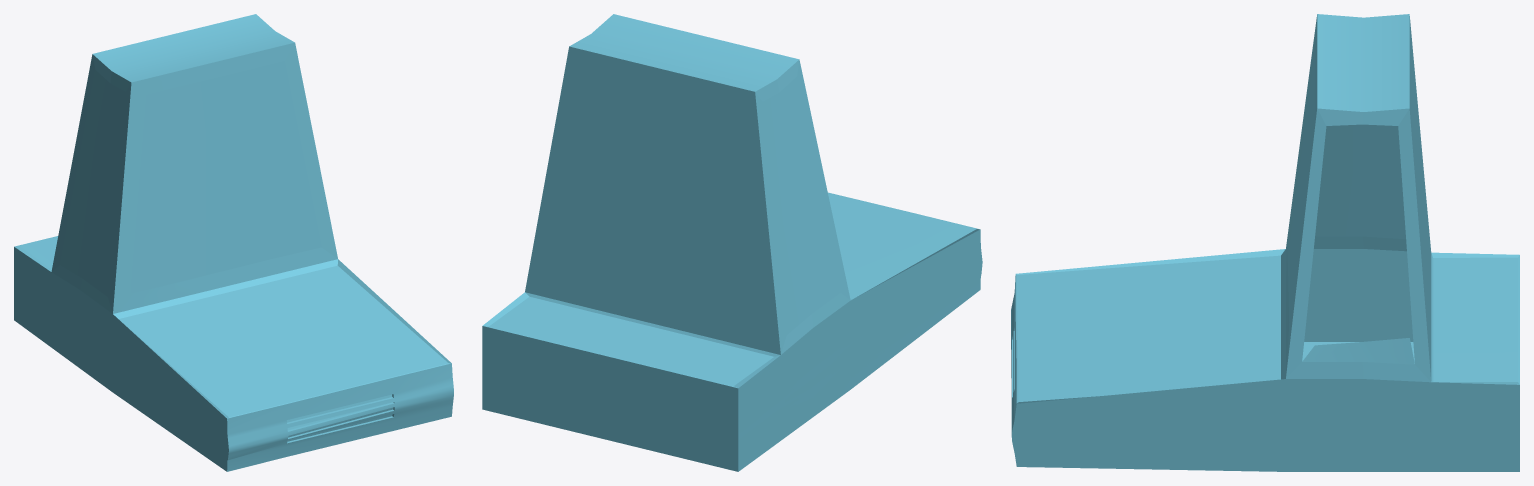
The picture shows the model from 3 angles, left to right: view 1: azimuth 30°, elevation 25°; view 2: azimuth 150°, elevation 25°; view 3: azimuth 270°, elevation 25°; orthographic projection. The views are drawn at different scales.
Visible parts, largest first — view 1: pCube1; view 2: pCube1; view 3: pCube1.
Part boxes in pixels (x1=…): pCube1: x1=14, y1=14, x2=453, y2=471; pCube1: x1=482, y1=14, x2=982, y2=471; pCube1: x1=1011, y1=14, x2=1519, y2=471.
Bounding box in the file's own units: 9 × 11.18 × 14.88.
